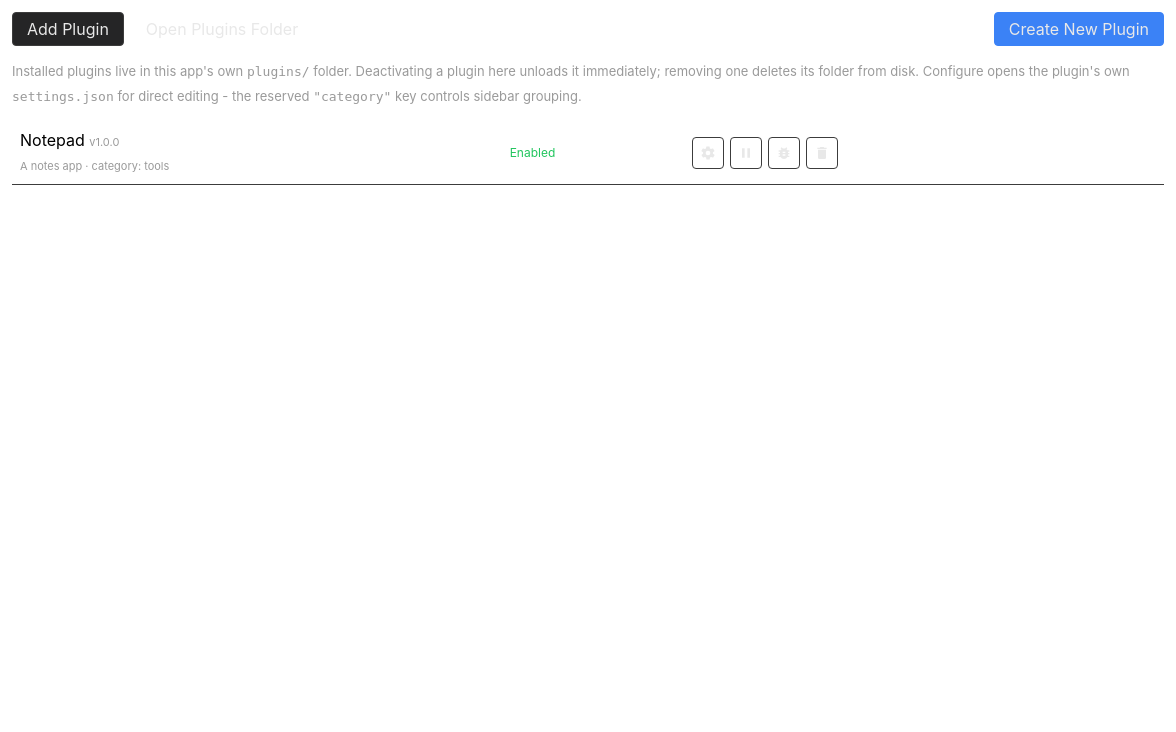
Test case: SettingsPlugins › shows a save error when writePluginSettingsFile rejects
Check: the text "Enabled" is shown, box [502, 122, 684, 184]
Click the button named "Configure". click: (708, 153)
box: [692, 137, 724, 169]
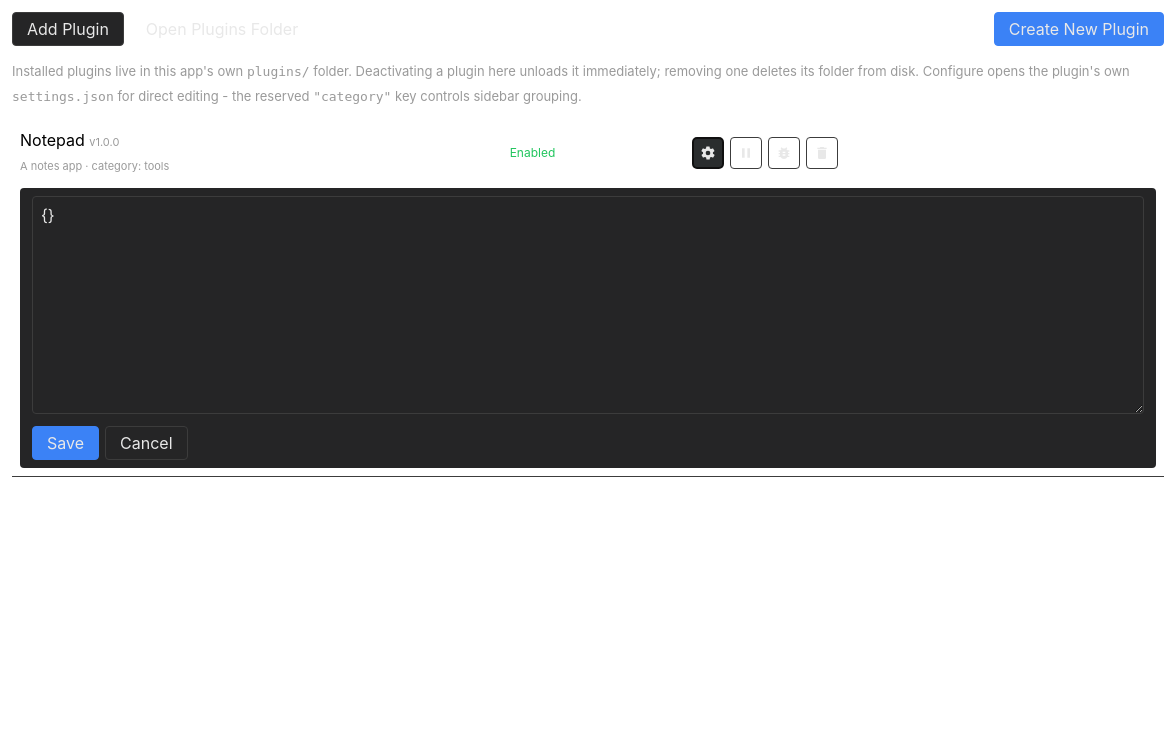
Check: the text box showing "{}" is shown, box [32, 196, 1144, 414]
Click the button "Save". click: (66, 443)
box: [32, 426, 99, 460]
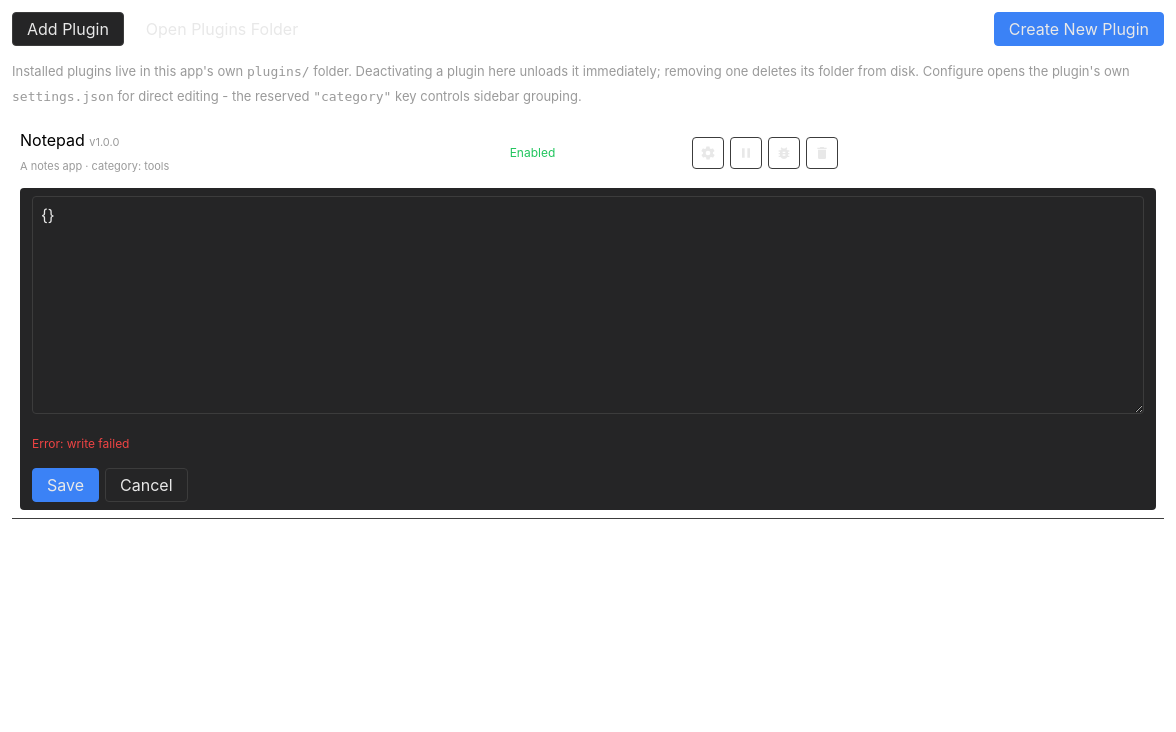
Check: the text "Error: write failed" is shown, box [32, 436, 130, 451]
